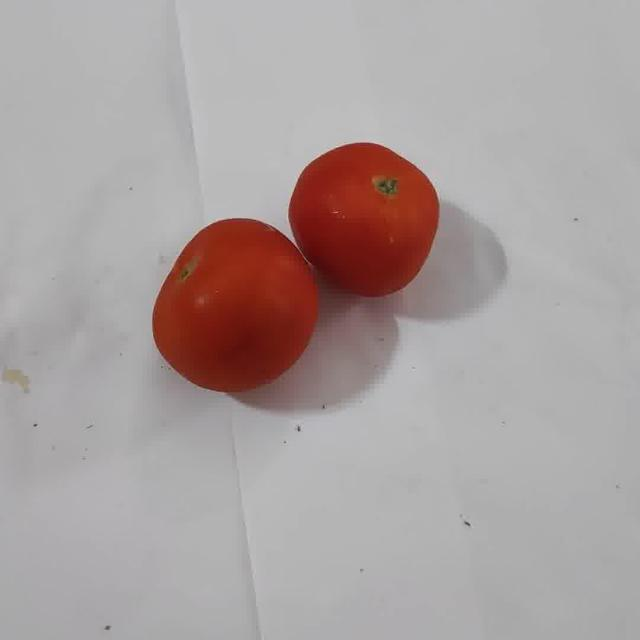Tomato: (153, 219, 318, 393), (288, 143, 439, 297)
